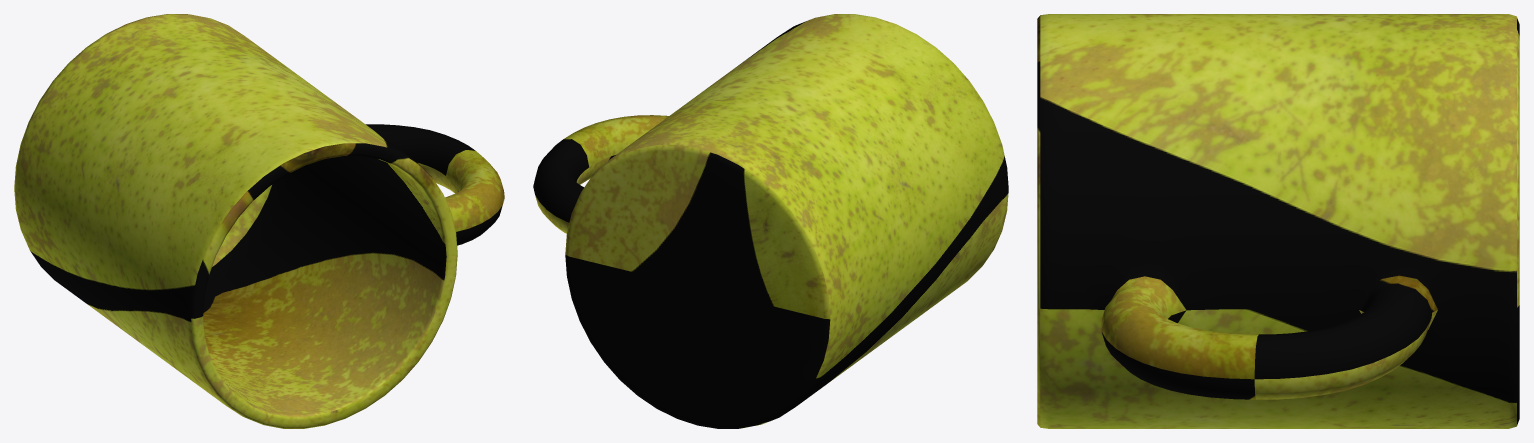
3 views of the same model, side by side, from view 1: azimuth 30°, elevation 25°; view 2: azimuth 150°, elevation 25°; view 3: azimuth 270°, elevation 25° (orthographic). The views are drawn at different scales.
Bounding box in the file's own units: 1 × 0.7148 × 0.8298.
